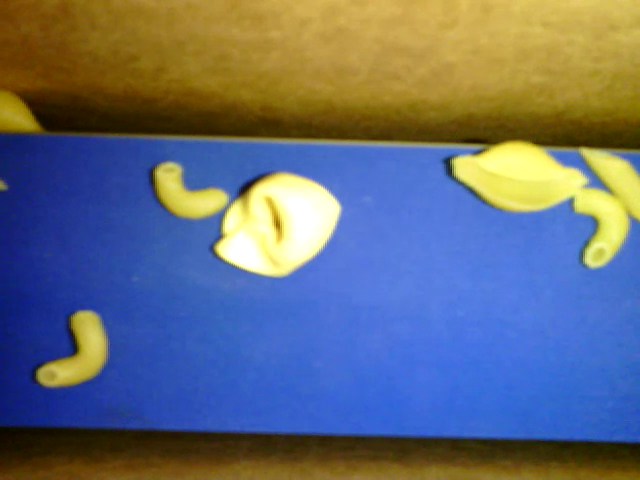elbow: (36, 310, 108, 387), (573, 186, 630, 270), (153, 161, 229, 219)
penne: (580, 146, 639, 219)
shell: (450, 140, 588, 212)
tortellini: (213, 171, 343, 278)
